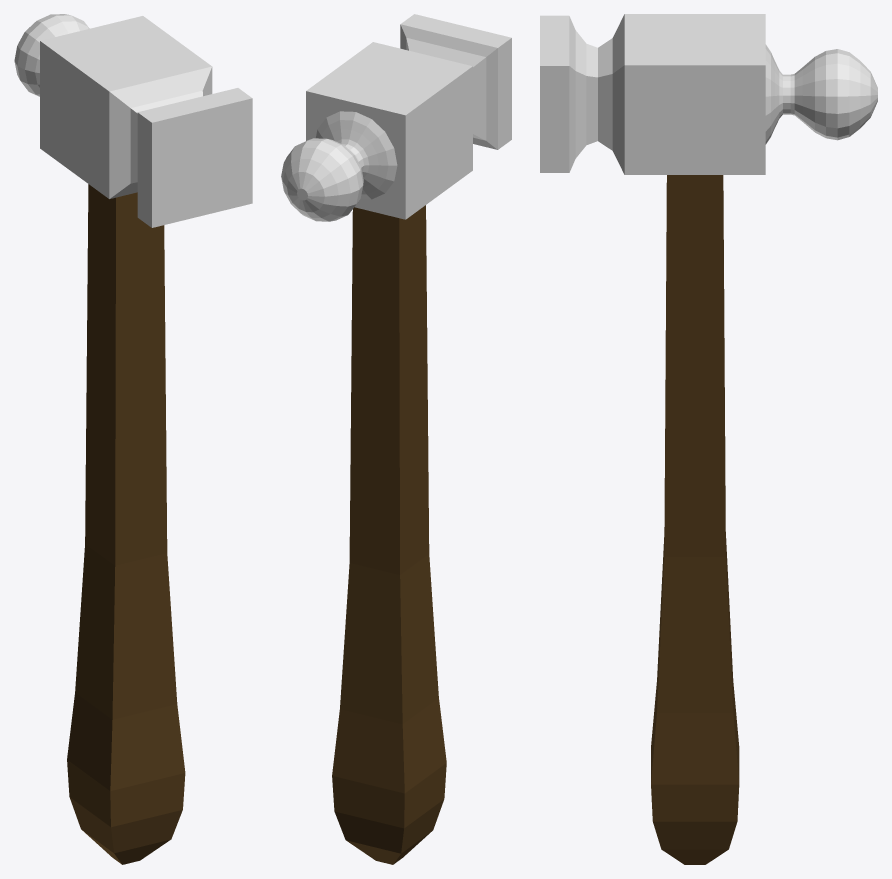
Rendered from hammer_bangpop.glb.
3 views of the same model, side by side, from view 1: azimuth 30°, elevation 25°; view 2: azimuth 150°, elevation 25°; view 3: azimuth 270°, elevation 25° (orthographic). The views are drawn at different scales.
Visible parts, largest first — view 1: hammer_bangpop; view 2: hammer_bangpop; view 3: hammer_bangpop.
Part boxes in pixels (x1,y1,x2,y2): hammer_bangpop: [14, 14, 252, 864]; hammer_bangpop: [281, 14, 511, 864]; hammer_bangpop: [540, 14, 877, 864].
Bounding box in the file's own units: 197 × 1471 × 549.
